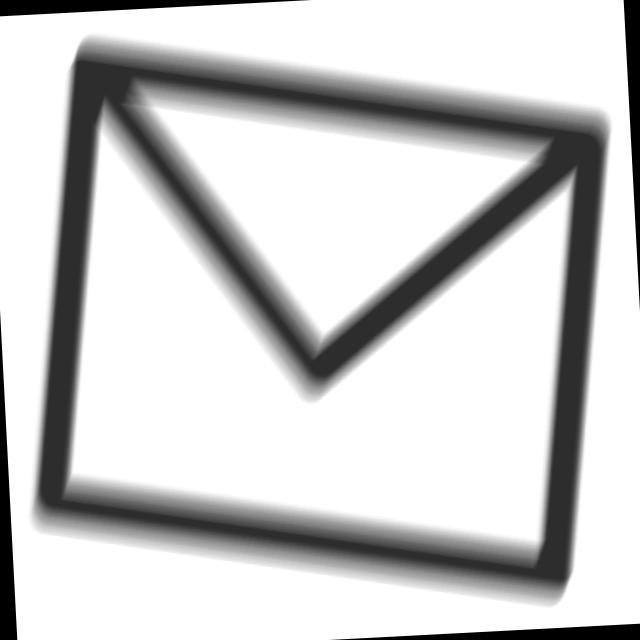letter: (9, 1, 640, 635)
